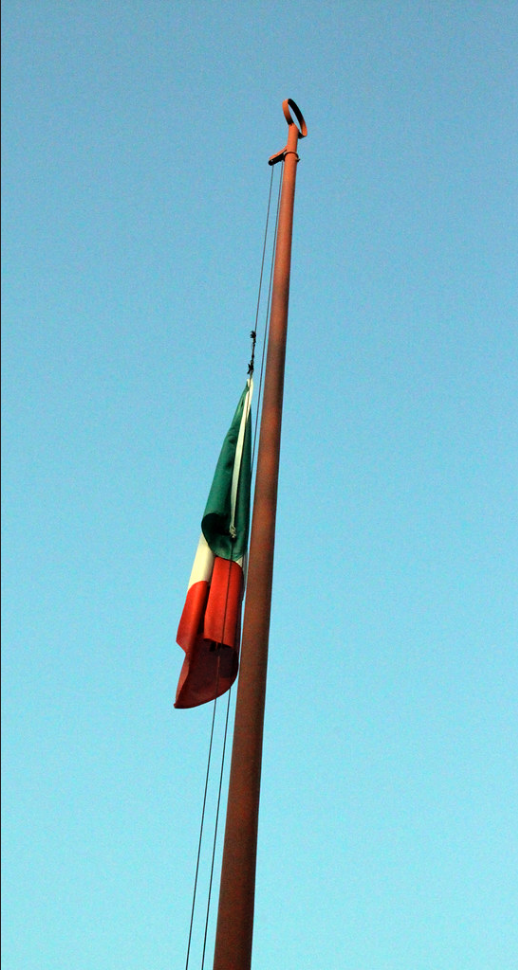Flag: (168, 374, 251, 713)
